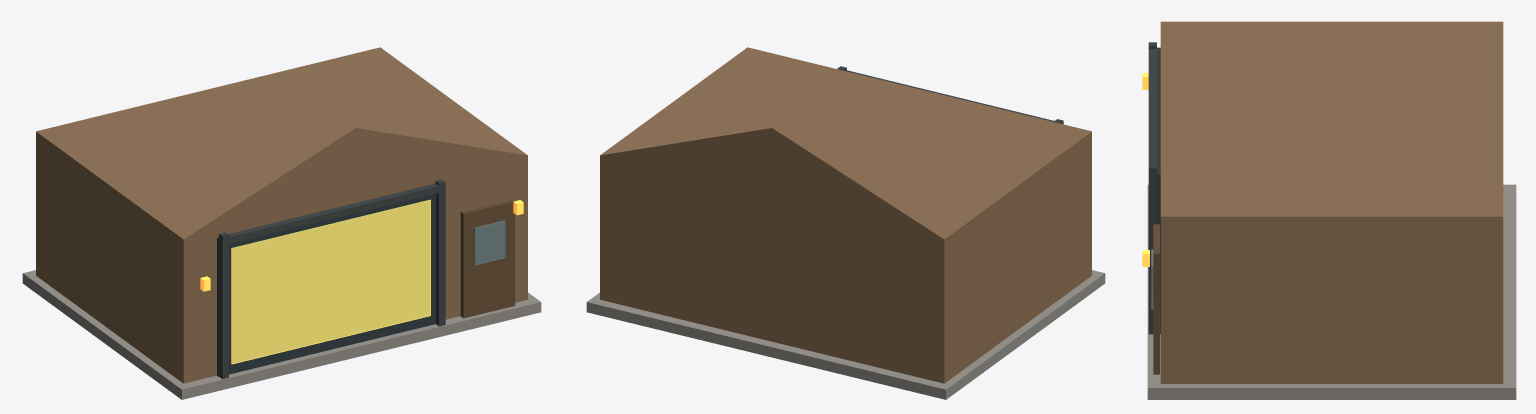
File: building-workshop-garage.glb
3 views of the same model, side by side, from view 1: azimuth 30°, elevation 25°; view 2: azimuth 150°, elevation 25°; view 3: azimuth 270°, elevation 25° (orthographic). The views are drawn at different scales.
Parts seen in each view (by area): view 1: building-workshop-garage; view 2: building-workshop-garage; view 3: building-workshop-garage.
Boxes of the visible parts, bbox=[...] form: building-workshop-garage: bbox=[22, 47, 541, 399]; building-workshop-garage: bbox=[586, 47, 1105, 399]; building-workshop-garage: bbox=[1142, 21, 1516, 399].
Bounding box in the file's own units: 7.56 × 4.35 × 5.76.
